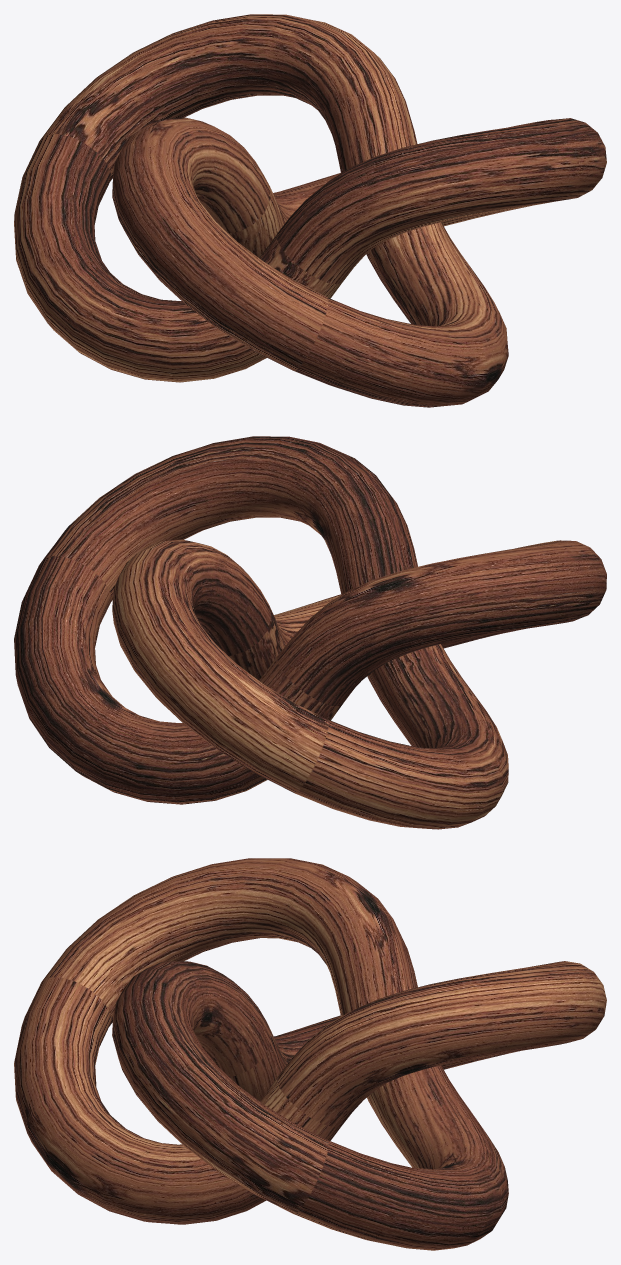
Rendered from torus_knot.glb.
3 views of the same model, one above another, from view 1: azimuth 30°, elevation 25°; view 2: azimuth 150°, elevation 25°; view 3: azimuth 270°, elevation 25° (orthographic).
Visible parts, largest first — view 1: TorusKnot; view 2: TorusKnot; view 3: TorusKnot.
Part boxes in pixels (x1,y1,x2,y2): TorusKnot: [14, 14, 606, 407]; TorusKnot: [14, 436, 606, 829]; TorusKnot: [14, 858, 606, 1250].
Size of the model in its own units: 6.26 by 2.9 by 6.55.
Materials: 1 (1 with a texture image).
